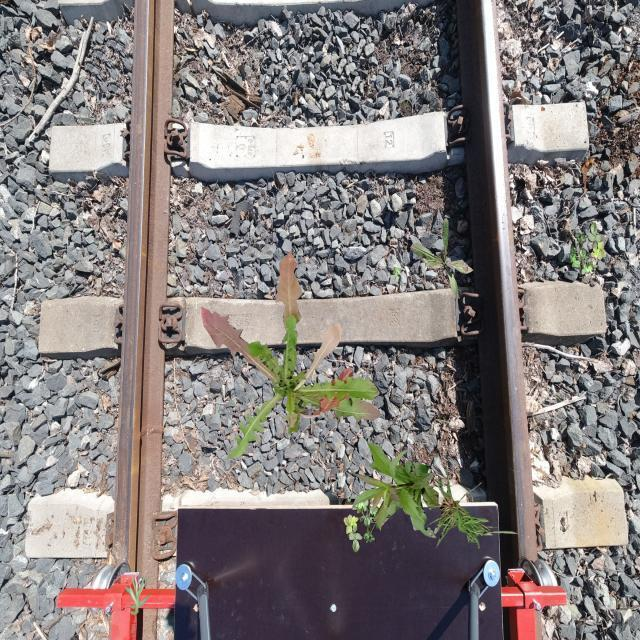Plant: (201, 251, 381, 460), (384, 461, 528, 551), (350, 441, 438, 538), (410, 218, 474, 302), (344, 498, 382, 553), (569, 223, 606, 278), (125, 574, 152, 616), (392, 267, 406, 282)
